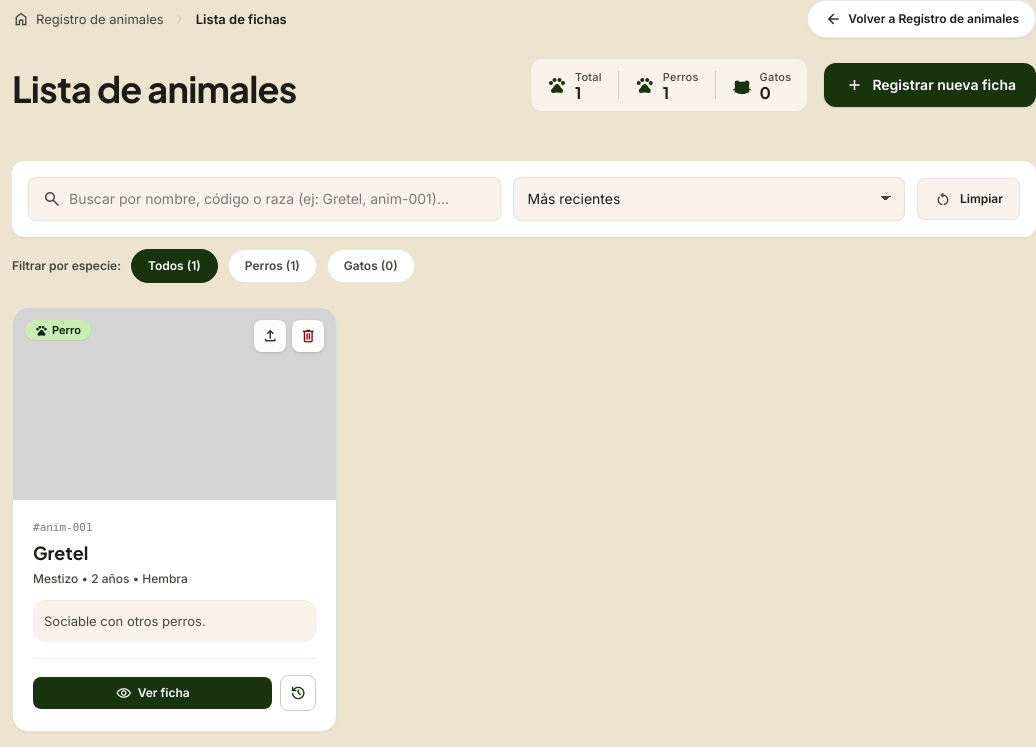
RegistroFichasPage › elimina la imagen de una ficha
Click the button named "Quitar imagen de Gretel" at {"x": 308, "y": 336}, box x1=292 y1=320 x2=324 y2=352
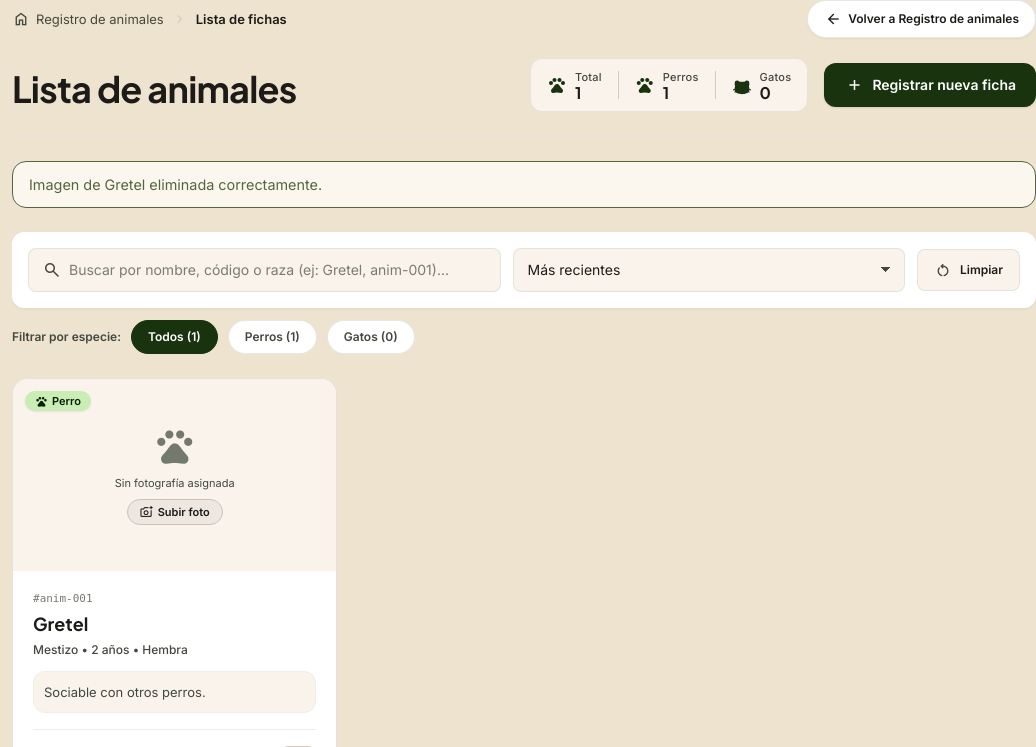
Expected: the text "Imagen de Gretel eliminada correctamente." is shown, x1=12 y1=161 x2=1035 y2=208
Expected: the text "Sin fotografía asignada" is shown, x1=115 y1=475 x2=235 y2=491
